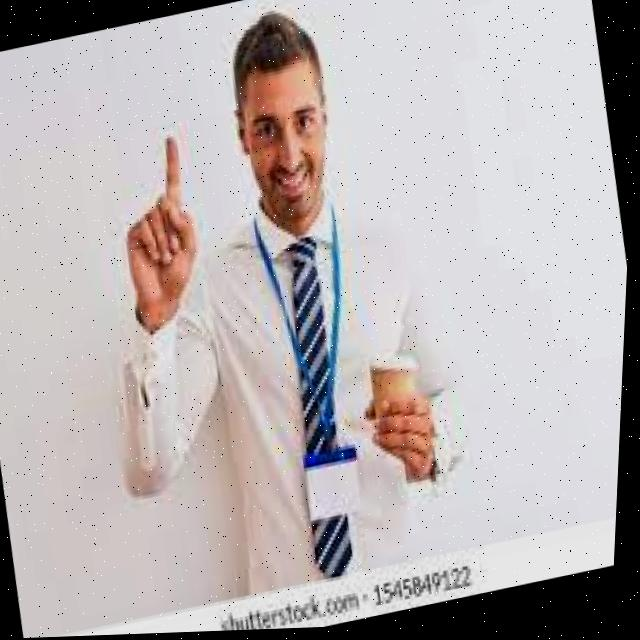id_card: (235, 204, 402, 555)
